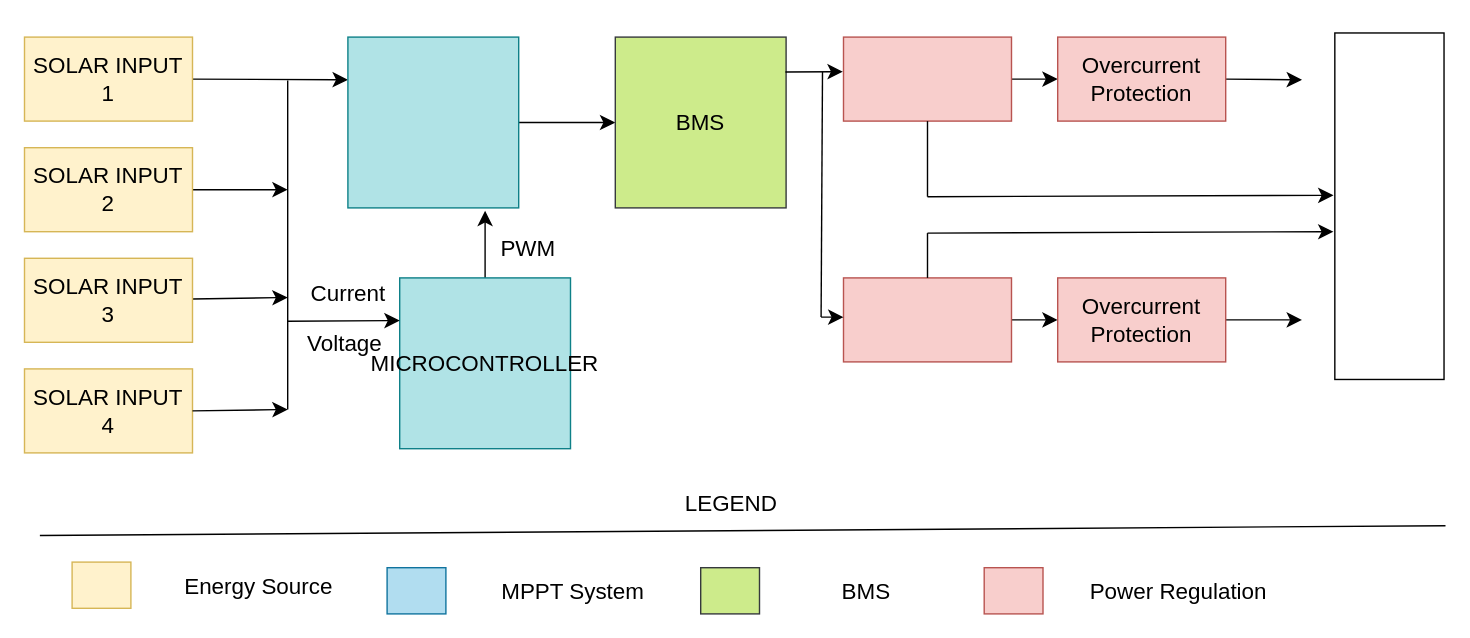
Image size: 1470x638. Some labels were removed from this diagram. Each missing label, with the box of its shape:
3.3V Regulator: (842, 36, 1011, 121)
5V Regulator: (842, 276, 1011, 362)
MPPT: (346, 36, 519, 208)
Subsystems: (1334, 31, 1444, 379)
